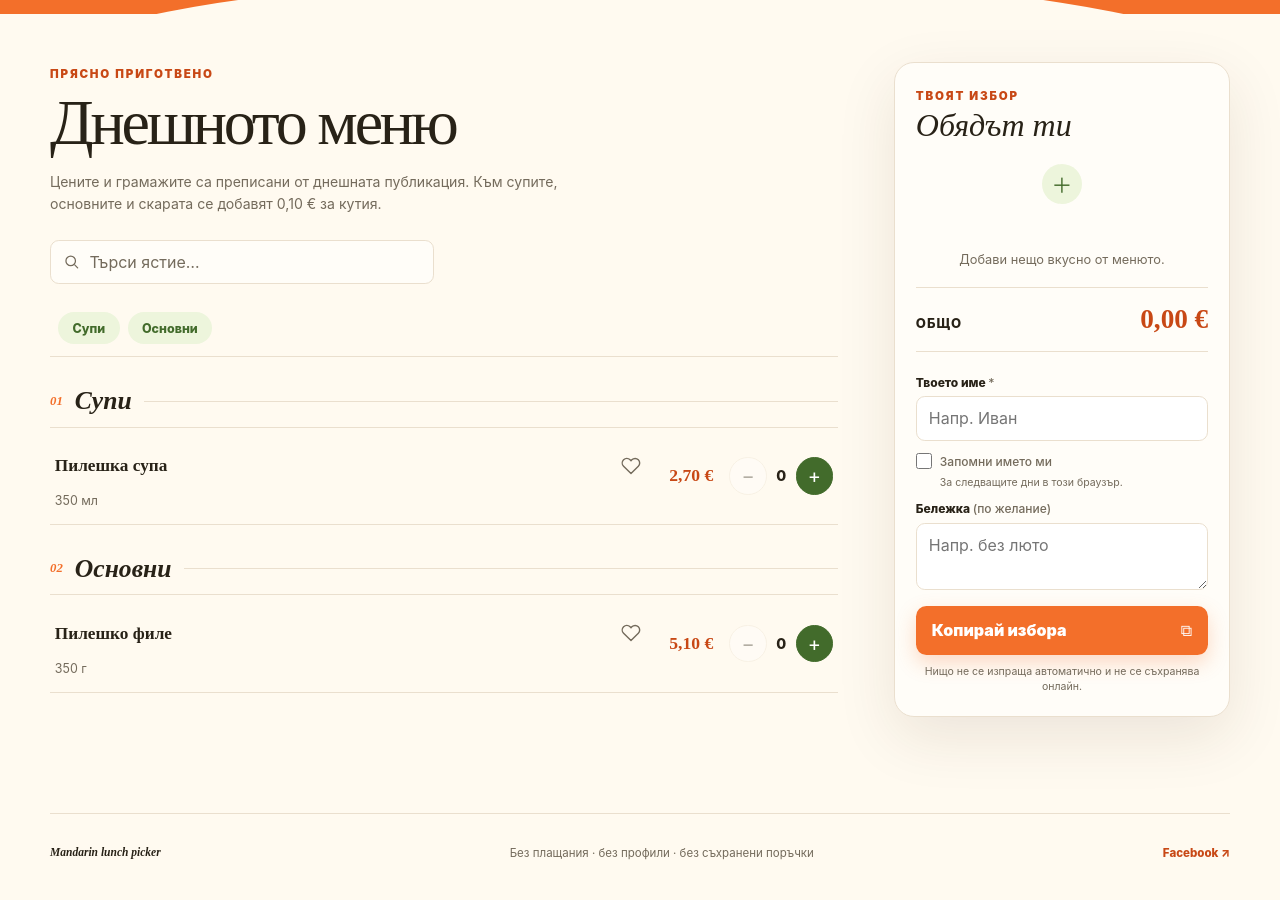
interactive menu › restores quantities, name, and note after clearing, and expires undo after a new selection
The image size is (1280, 900).
(page scrolled)
Step 1. Click the button named "Добави Пилешка супа" → x=814, y=476, box x1=796 y1=457 x2=833 y2=495
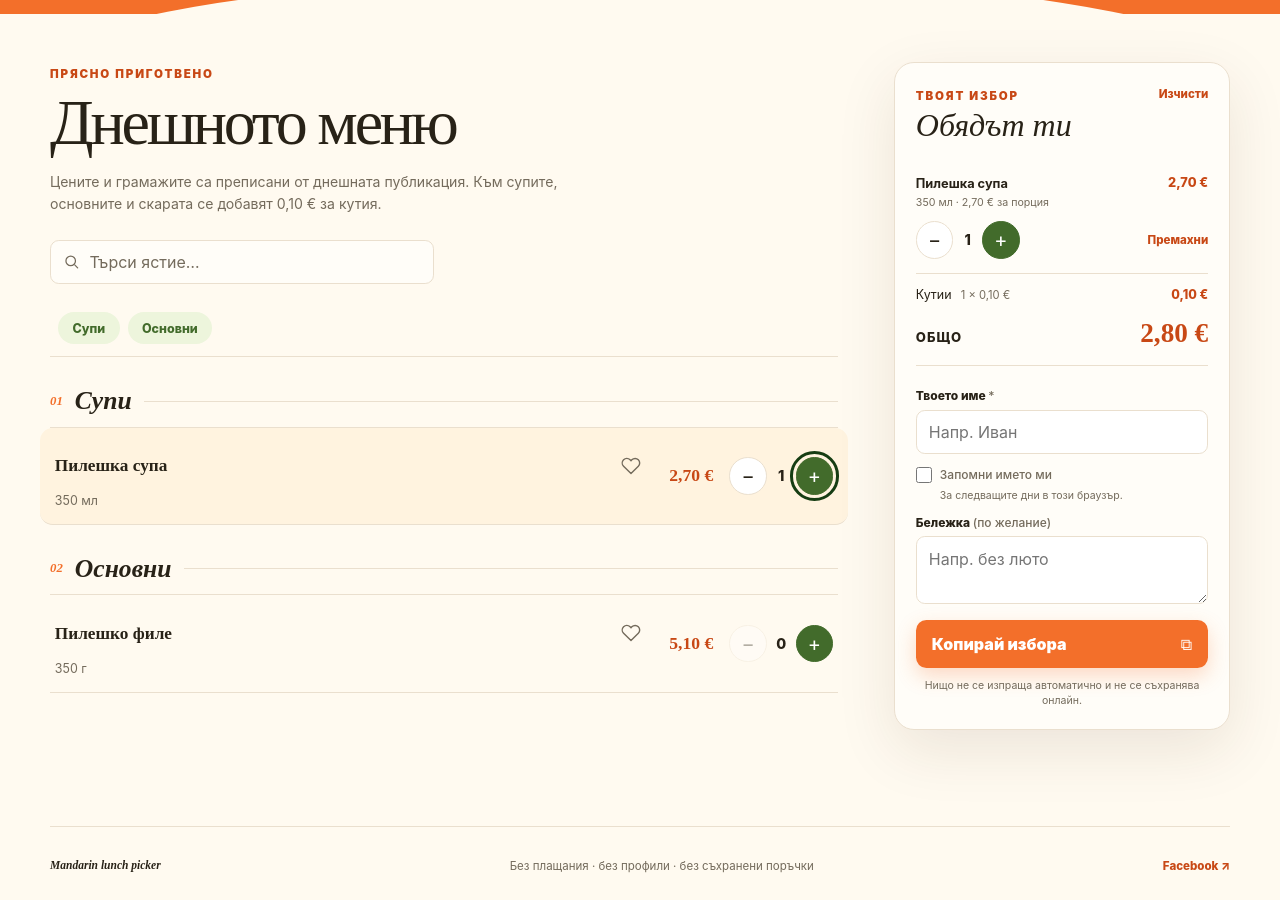
Step 2. Type "Мария" into the field labelled "Твоето име *" → x=1062, y=432, box x1=916 y1=410 x2=1208 y2=454
Step 3. Type "Без хляб" into the text box labelled "Бележка (по желание)" → x=1062, y=570, box x1=916 y1=536 x2=1208 y2=604
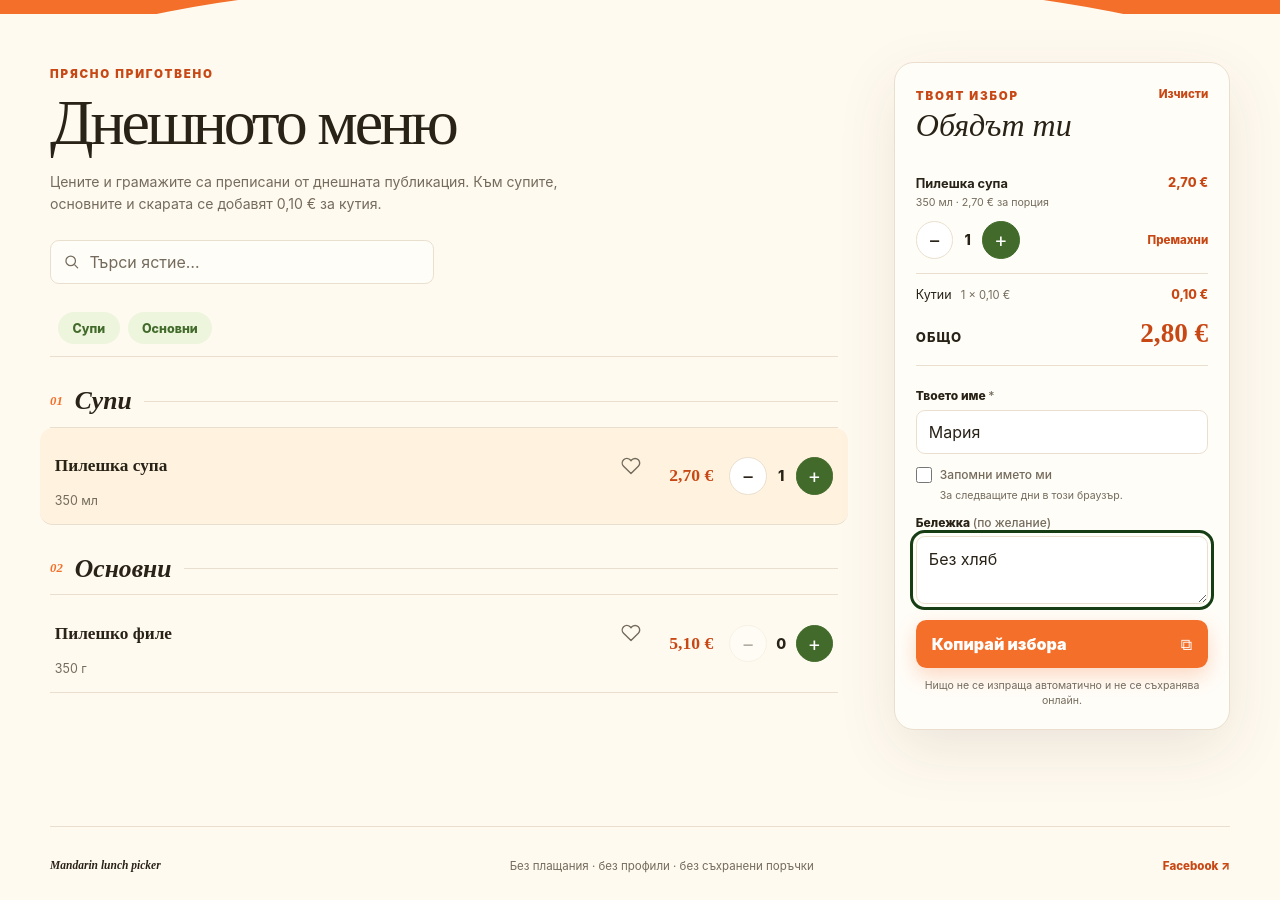
Step 4. Click the button "Изчисти" → x=1183, y=94, box x1=1159 y1=84 x2=1208 y2=105
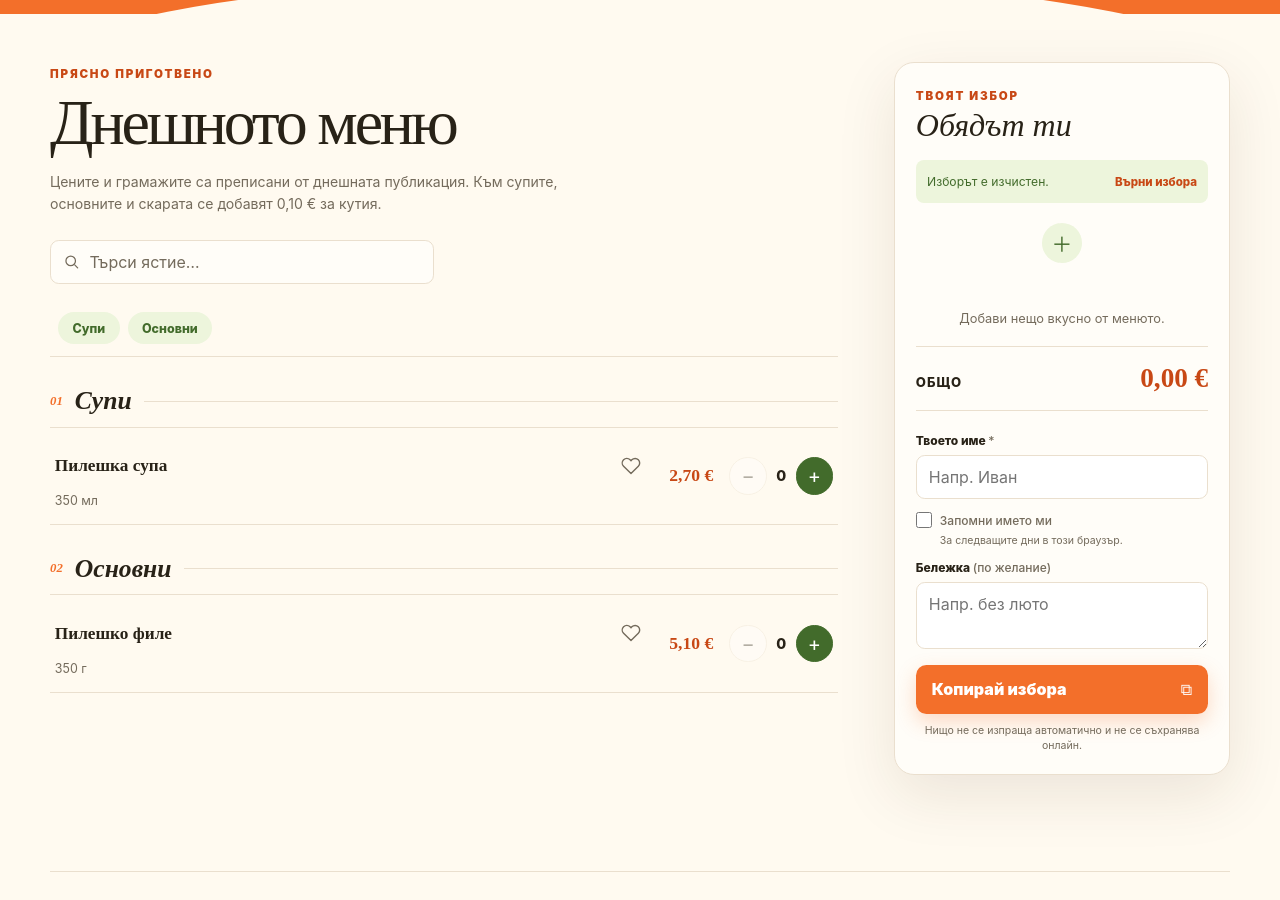
Expected: the field labelled "Твоето име *" is empty, x1=916 y1=455 x2=1208 y2=499
Step 5. Click the button "Върни избора" → x=1156, y=182, box x1=1115 y1=172 x2=1197 y2=192
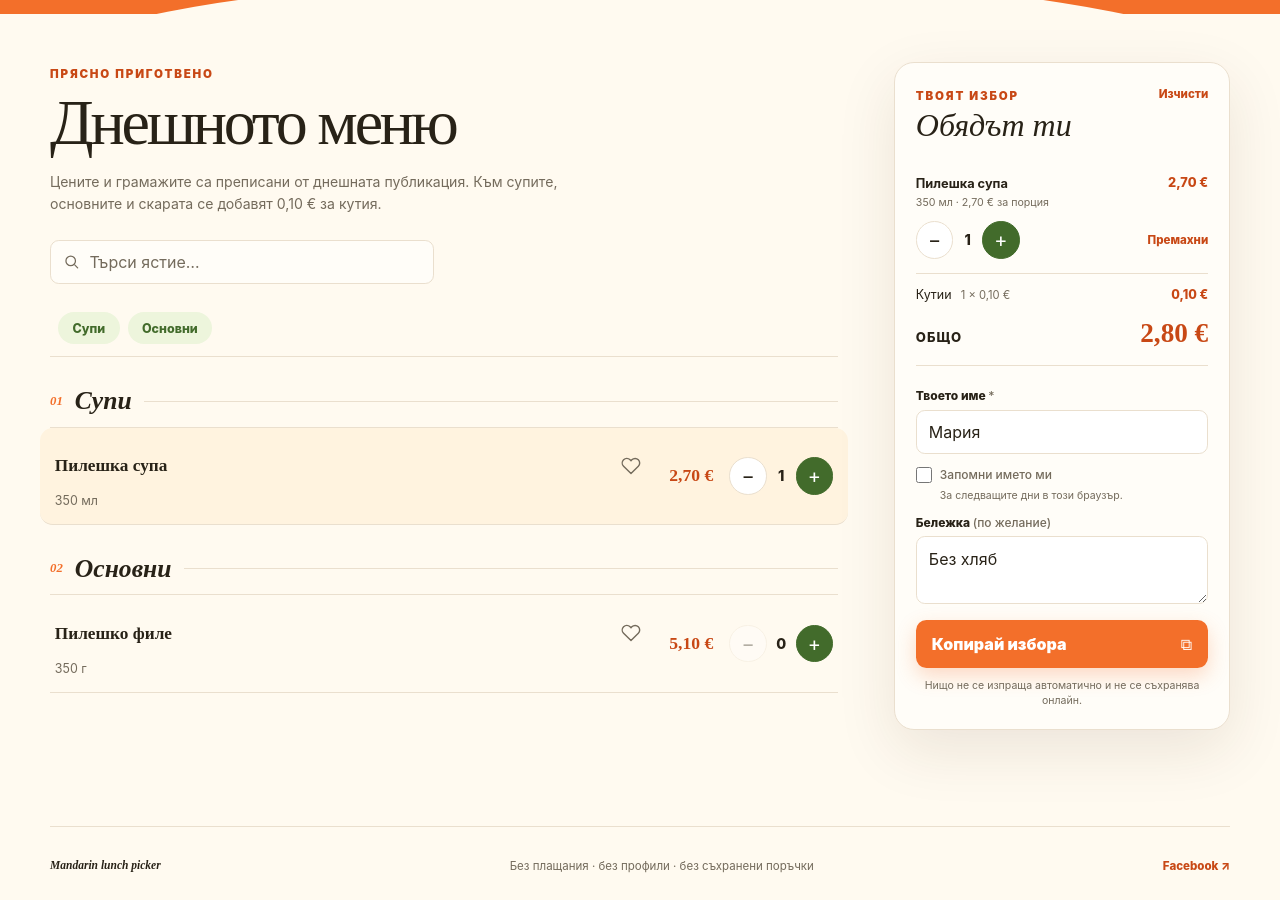
Expected: the text named "Избрано количество: 1" reads "1", x1=778 y1=467 x2=784 y2=484
Step 6. Click the button "Изчисти" → x=1183, y=94, box x1=1159 y1=84 x2=1208 y2=105
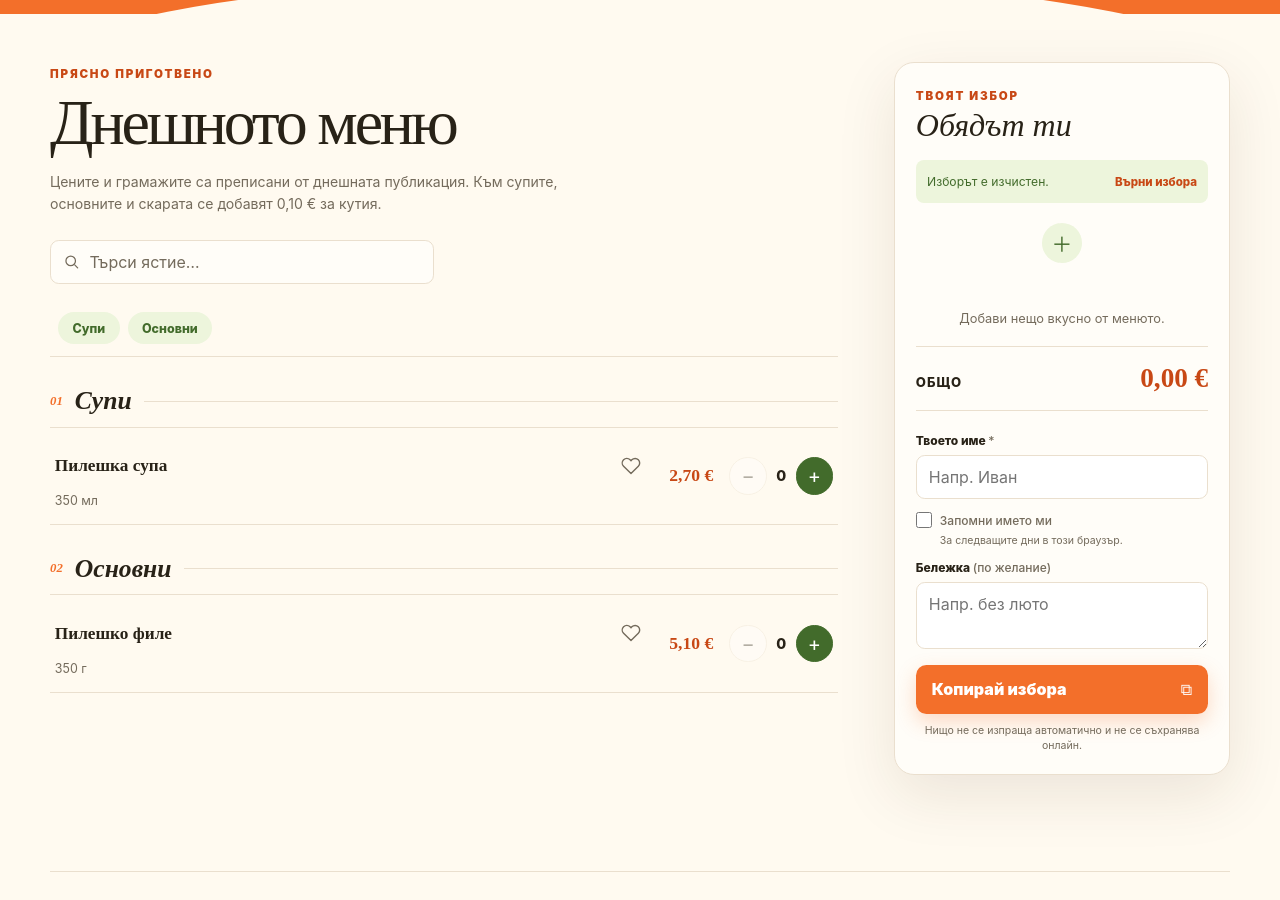
Step 7. Click the button named "Добави Пилешко филе" → x=814, y=644, box x1=796 y1=625 x2=833 y2=662
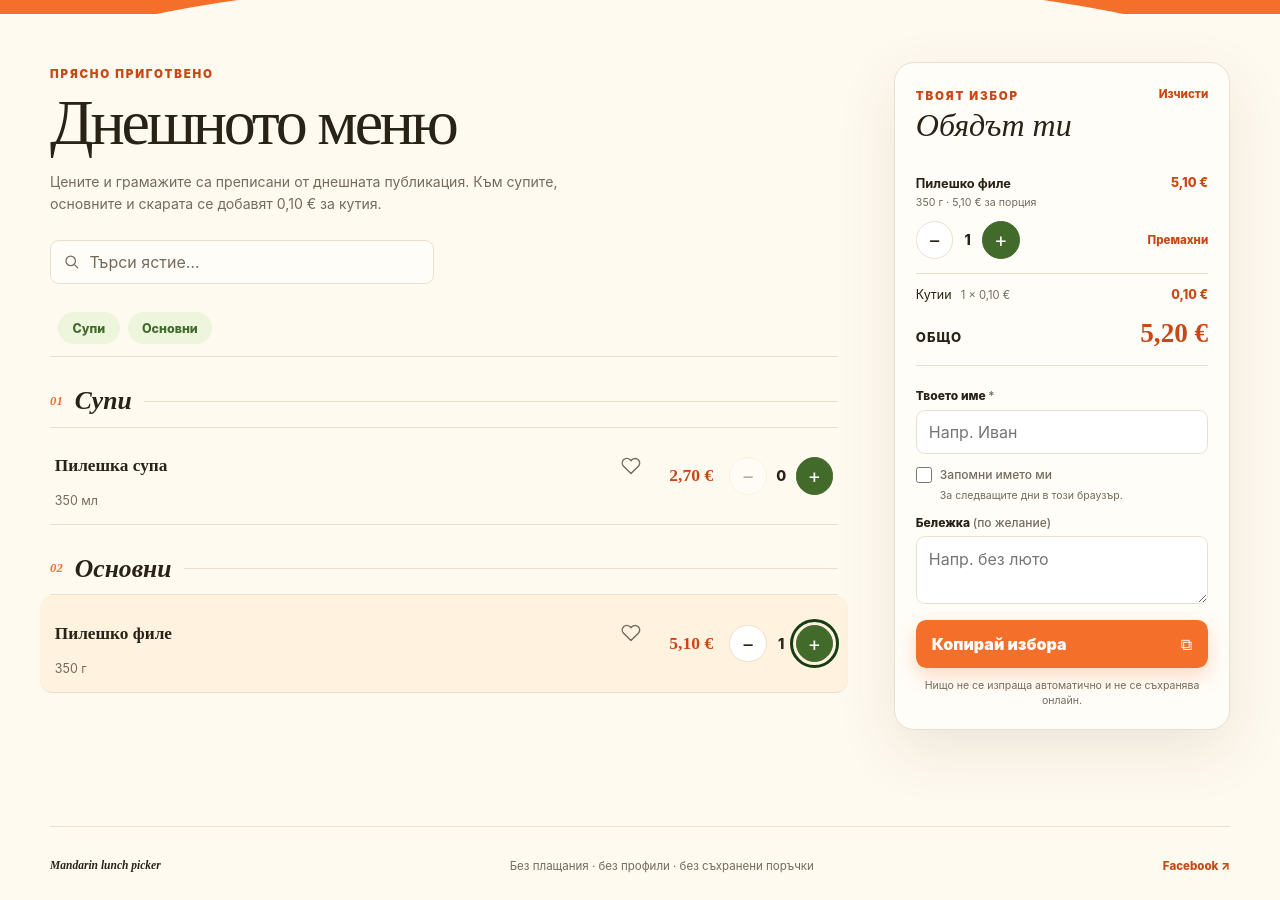
Expected: the button "Върни избора" is gone
